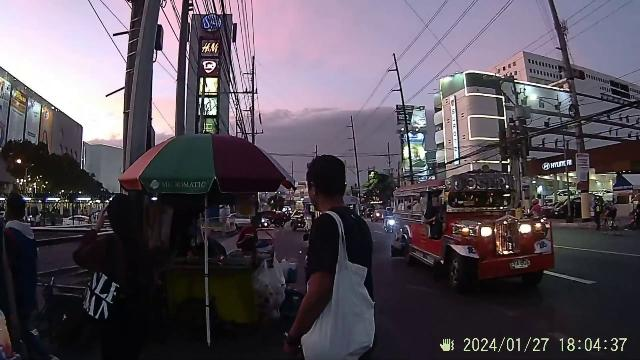street_vendor_cart: (144, 128, 286, 340)
